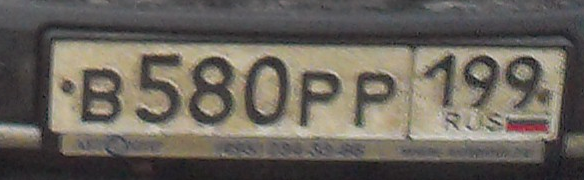character: (187, 50, 239, 130), (133, 47, 185, 124), (244, 52, 292, 128), (296, 58, 348, 128), (352, 66, 404, 130), (78, 65, 124, 124), (459, 51, 502, 113), (505, 50, 544, 113), (422, 50, 459, 113)
